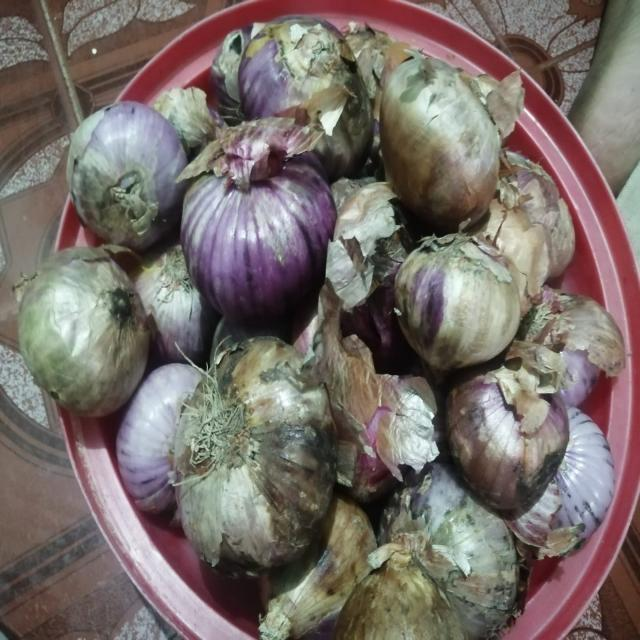rotten: (262, 388, 341, 545), (444, 515, 520, 625), (316, 54, 376, 142)
